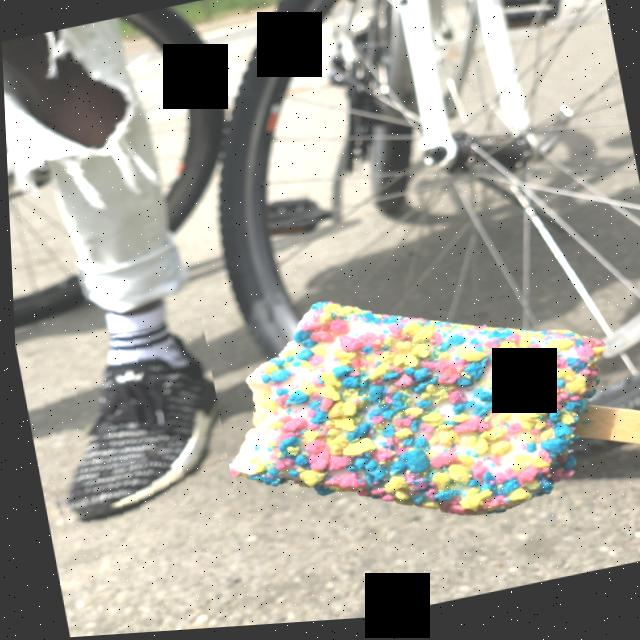shoe: (19, 319, 233, 547)
